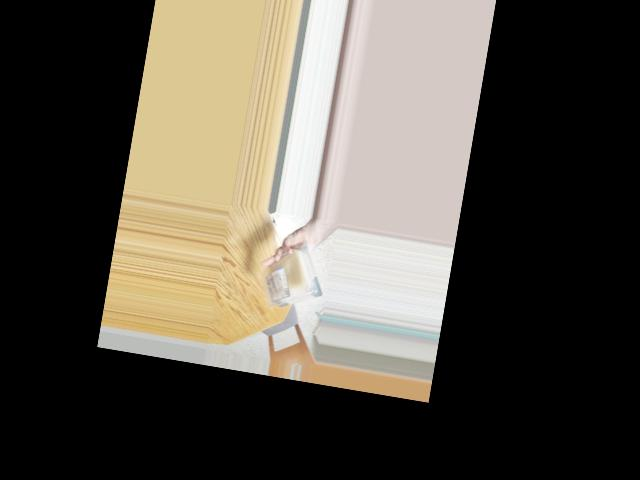cheese: (257, 241, 321, 316)
